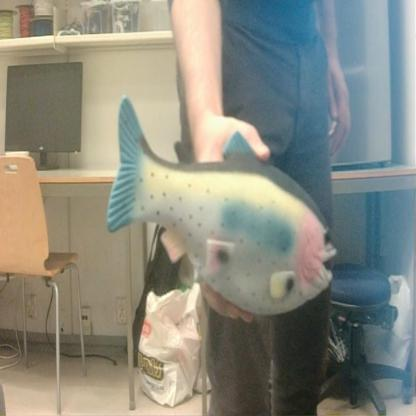rubberfish: (99, 86, 339, 324)
